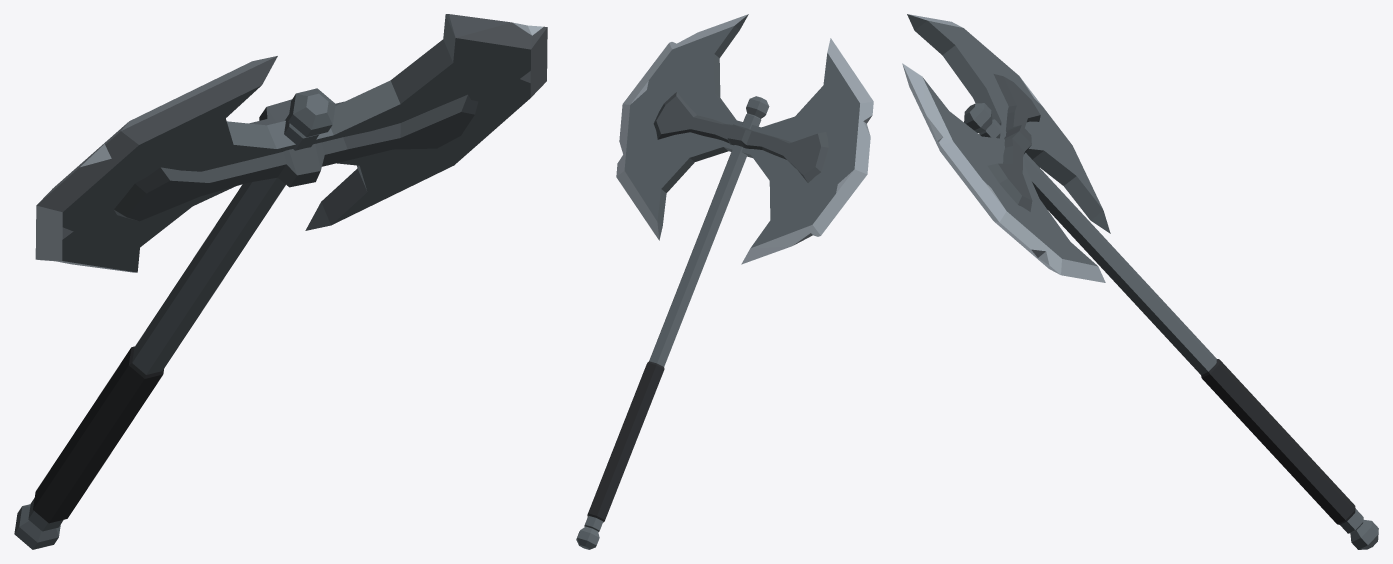
File: fk-axe-07.glb
The picture shows the model from 3 angles, left to right: view 1: azimuth 30°, elevation 25°; view 2: azimuth 150°, elevation 25°; view 3: azimuth 270°, elevation 25°; orthographic projection. The views are drawn at different scales.
Parts seen in each view (by area): view 1: fk-axe-07; view 2: fk-axe-07; view 3: fk-axe-07.
Boxes of the visible parts, x1,y1,x2,y2 form: fk-axe-07: [14, 14, 547, 549]; fk-axe-07: [576, 14, 873, 549]; fk-axe-07: [902, 14, 1378, 549].
Bounding box in the file's own units: 0.7641 × 1.15 × 0.9979.
1 material, 1 textured.
